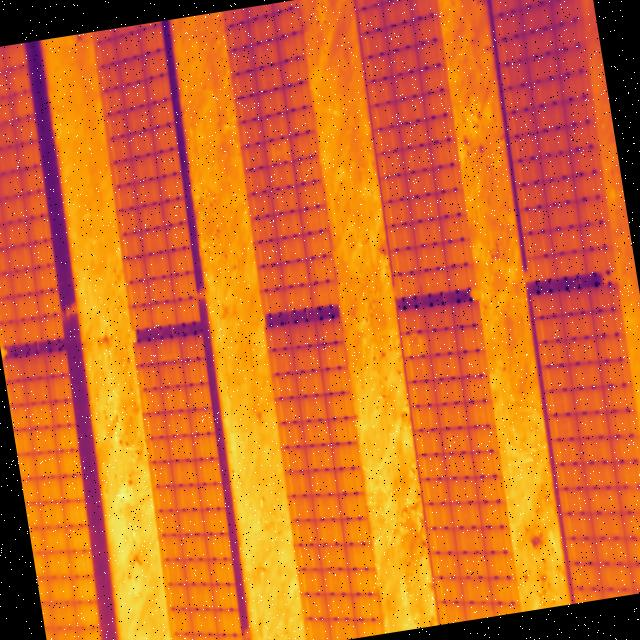Hotspot: (402, 329, 427, 356), (270, 136, 292, 165)
